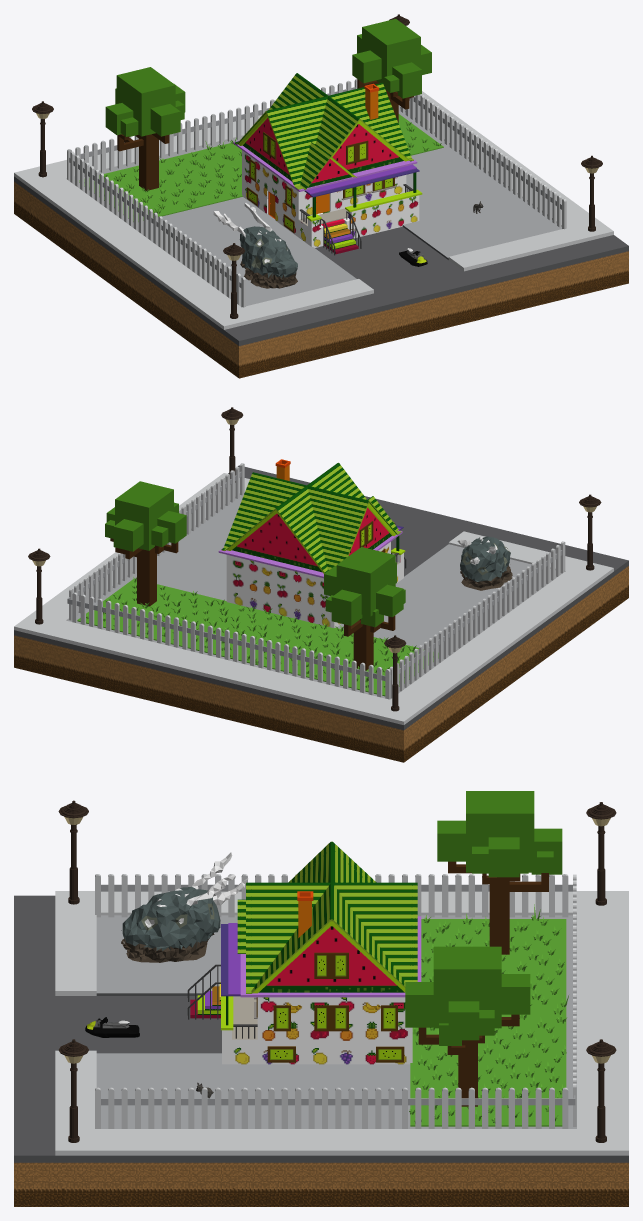
3 views of the same model, one above another, from view 1: azimuth 30°, elevation 25°; view 2: azimuth 150°, elevation 25°; view 3: azimuth 270°, elevation 25° (orthographic). The views are drawn at different scales.
Parts seen in each view (by area): view 1: Cube.004, Cube.1063, OBJRANDOM_METEORITE; view 2: Cube.004, Cube.1063, OBJRANDOM_METEORITE; view 3: Cube.004, Cube.1063, OBJRANDOM_METEORITE, VEHICLES_WATERBIKE.
Boxes of the visible parts, left/top/right/bottom form: Cube.004: left=14, top=14, right=628, bottom=378; Cube.1063: left=233, top=73, right=422, bottom=255; OBJRANDOM_METEORITE: left=213, top=203, right=297, bottom=288; Cube.004: left=14, top=407, right=628, bottom=762; Cube.1063: left=218, top=459, right=406, bottom=627; OBJRANDOM_METEORITE: left=457, top=536, right=512, bottom=590; Cube.004: left=14, top=791, right=628, bottom=1206; Cube.1063: left=187, top=841, right=421, bottom=1064; OBJRANDOM_METEORITE: left=121, top=852, right=248, bottom=962; VEHICLES_WATERBIKE: left=85, top=1017, right=139, bottom=1037.
Size of the model in its own units: 4000 by 1604 by 4000.
Materials: 29 (5 with a texture image).
